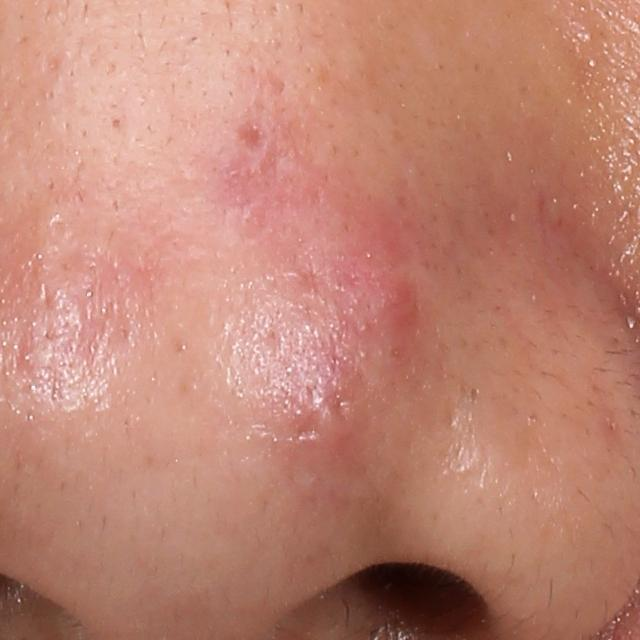atrophic_scar: (234, 118, 267, 156)
